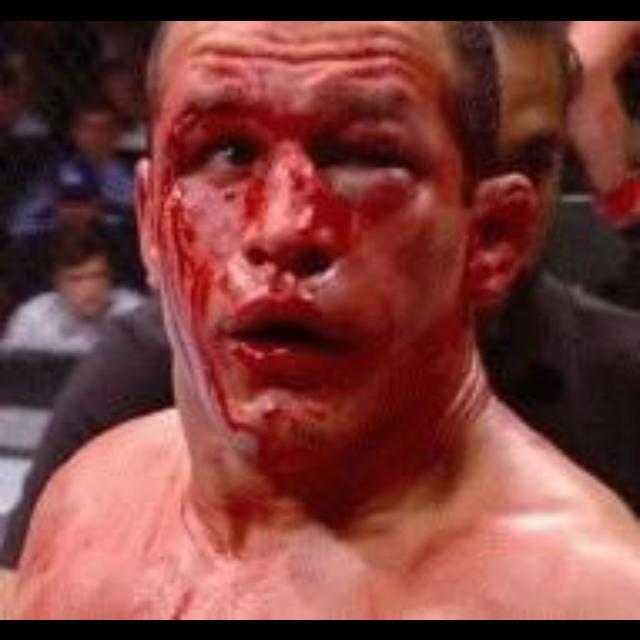blood: (149, 83, 467, 483)
